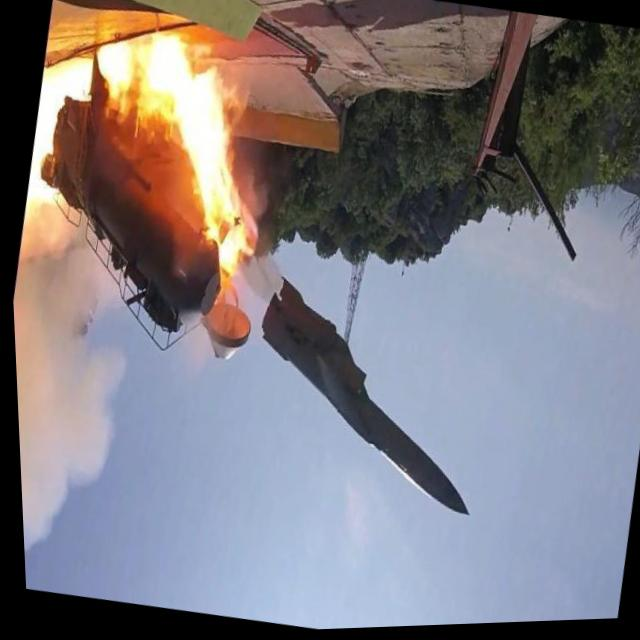missile: (228, 269, 502, 527)
